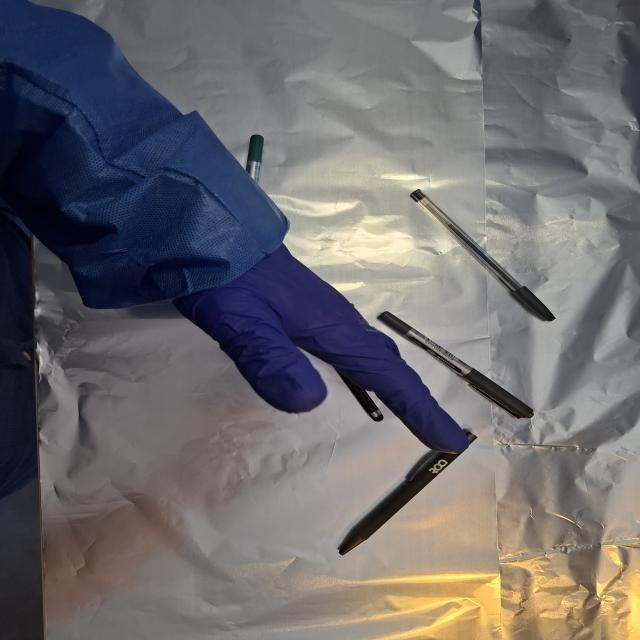glove_on: (168, 238, 471, 455)
